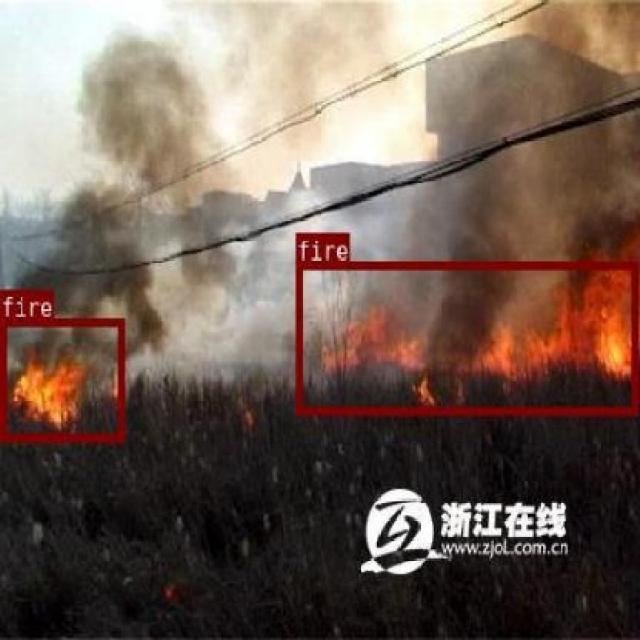fire: (294, 259, 636, 413), (0, 318, 123, 440)
